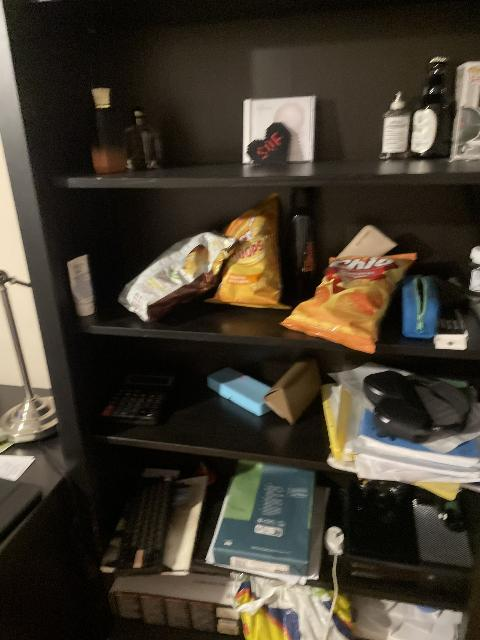Chio Cascaval 125g: (279, 251, 411, 354)
Chio Hula Hoops Cheese 70g: (204, 194, 291, 309)
Lays Beef Grilled Ribs 125g: (117, 231, 239, 322)
